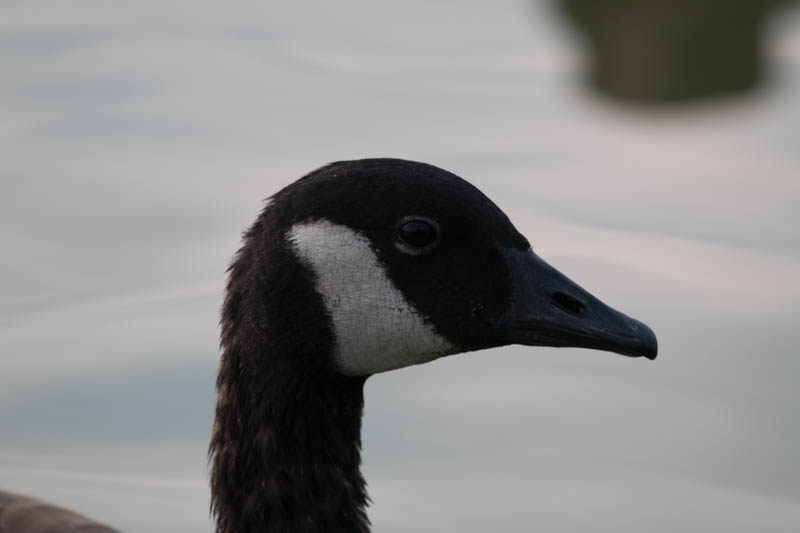goose-head: (224, 160, 658, 382)
